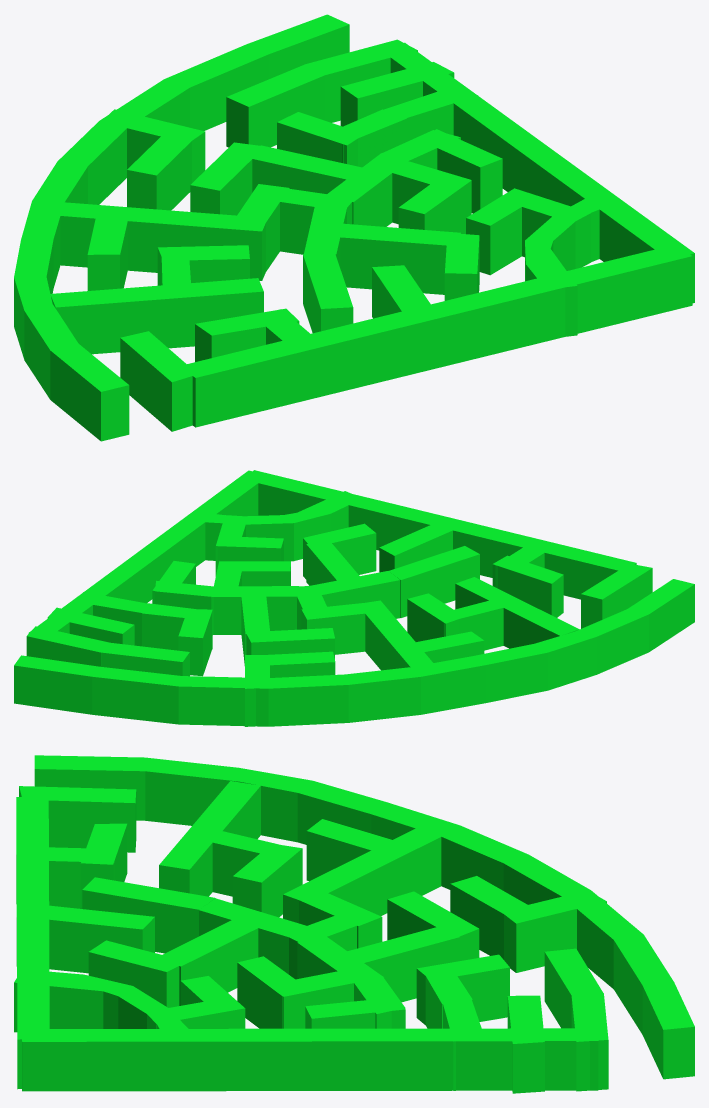
The model's file is MazeCollision.FBX.
The picture shows the model from 3 angles, top to bottom: view 1: azimuth 30°, elevation 25°; view 2: azimuth 150°, elevation 25°; view 3: azimuth 270°, elevation 25°; orthographic projection. The views are drawn at different scales.
Visible parts, largest first — view 1: Box002; view 2: Box002; view 3: Box002.
Part boxes in pixels (<box>): Box002: <box>14,14,694,441</box>; Box002: <box>14,470,694,726</box>; Box002: <box>14,755,694,1093</box>.
Bounding box in the file's own units: 4008 × 321 × 3994.
